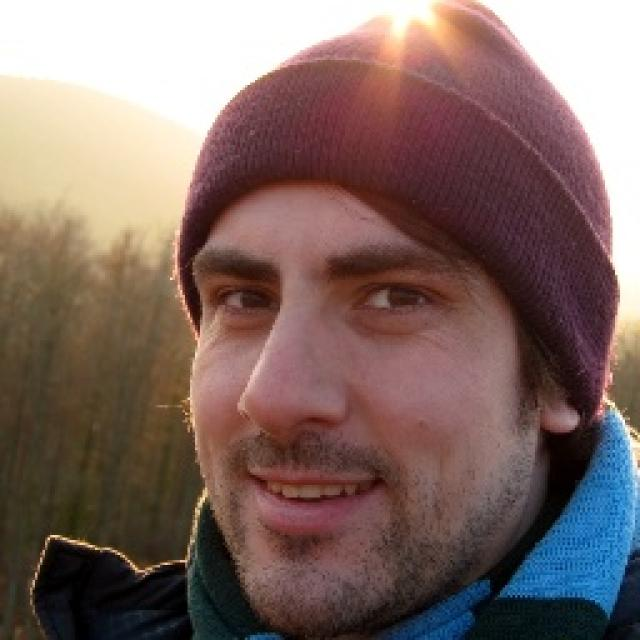earlobe: (538, 390, 578, 436)
eye: (258, 428, 334, 471), (350, 283, 434, 320), (215, 283, 280, 324)
